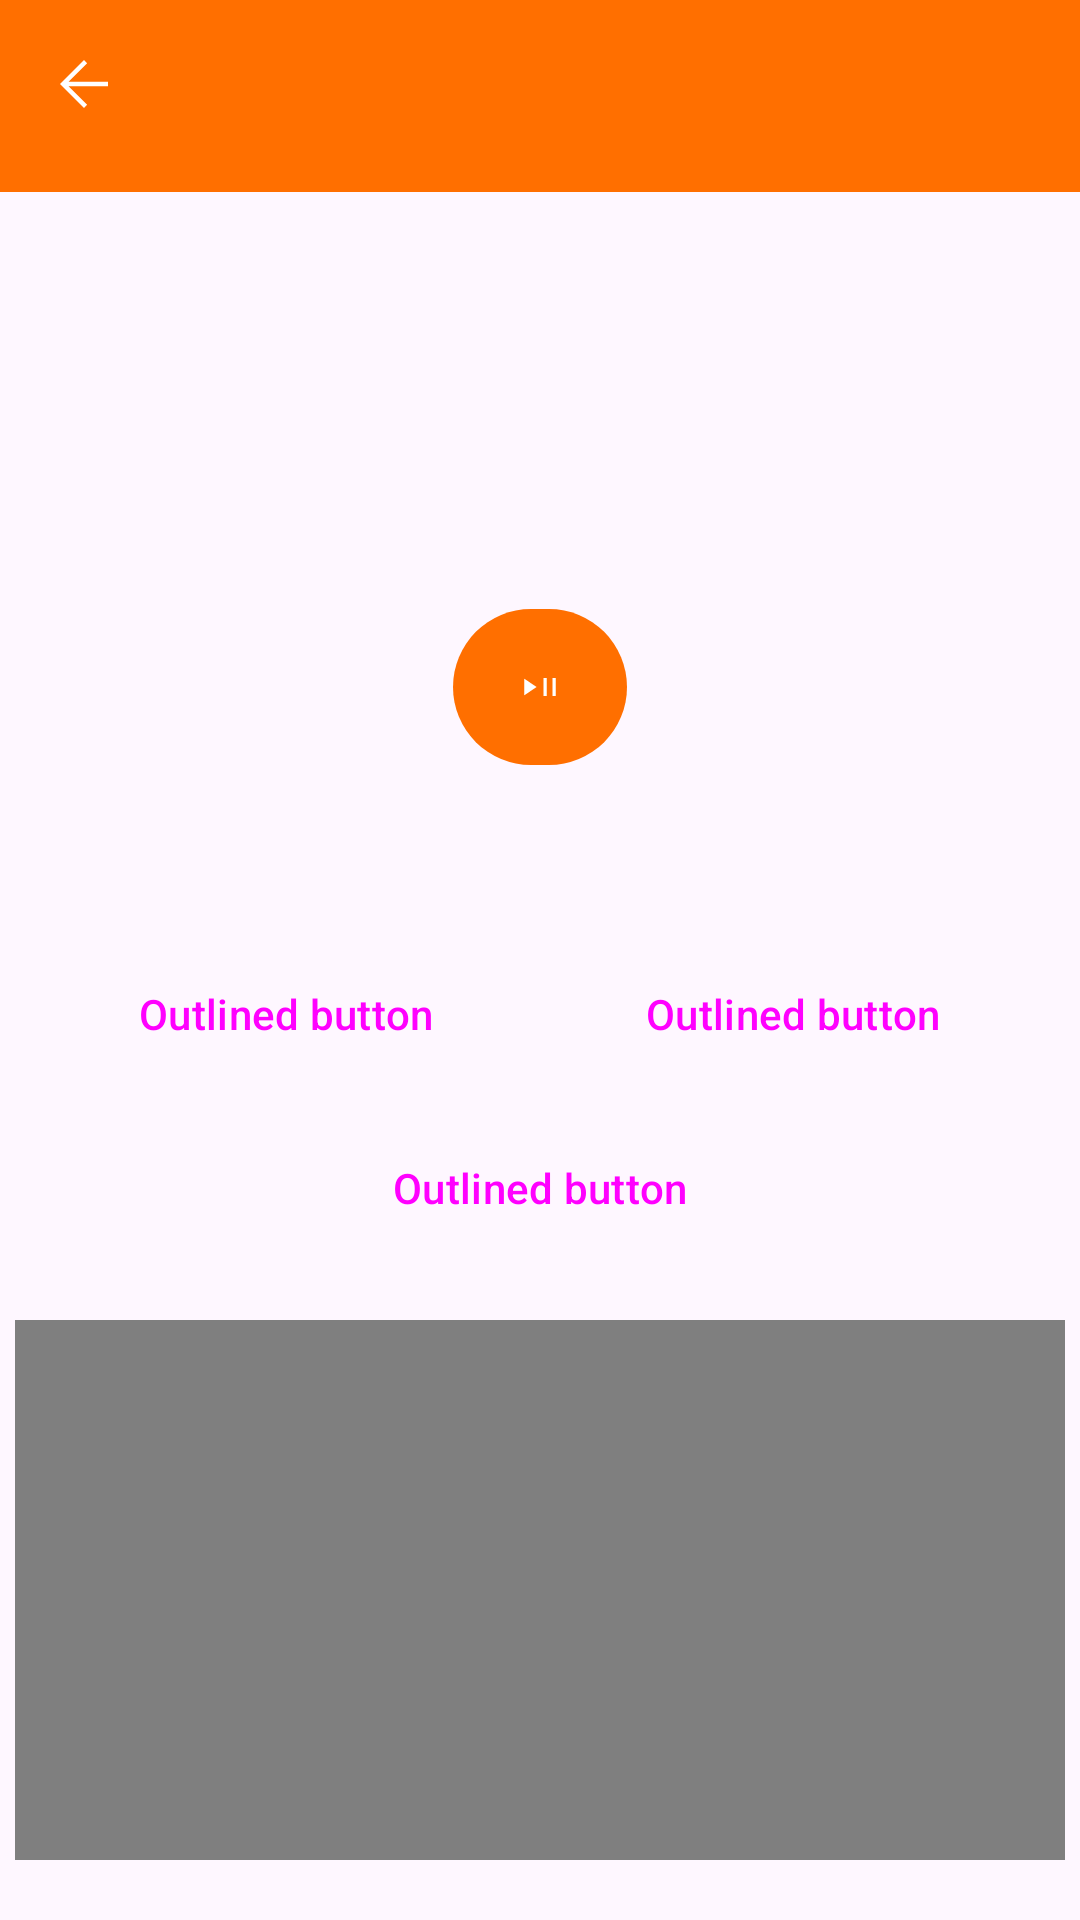

Where to tap for icons on this 1080px x 1920px app screen, as [x,y]:
play pause: [540,687]
